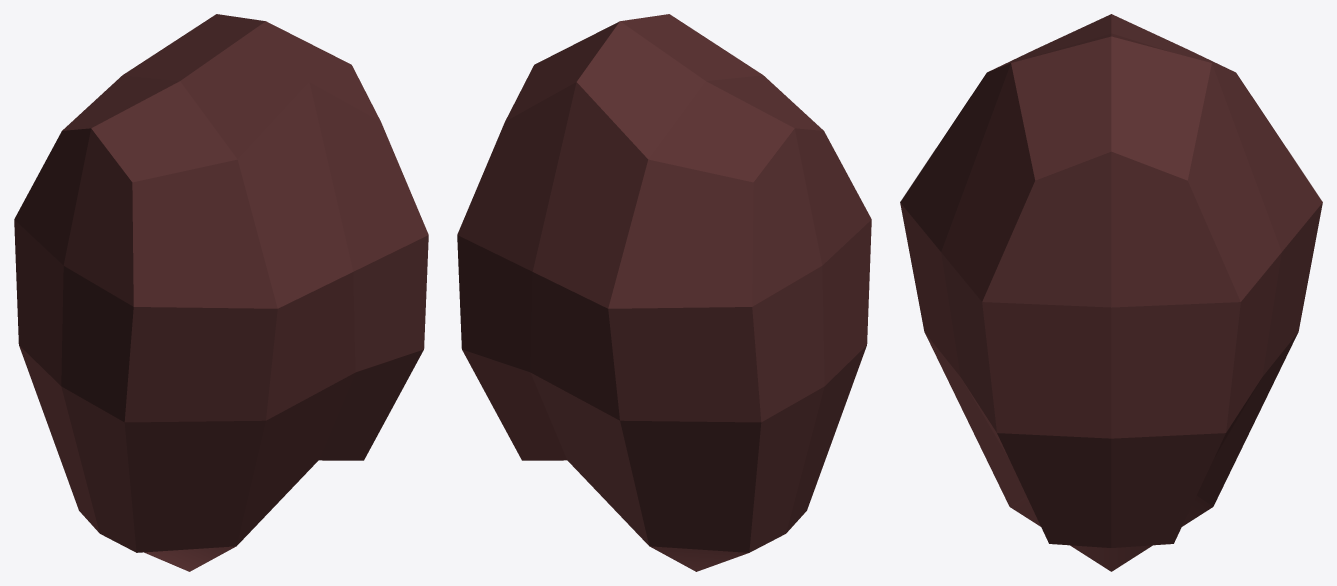
Rendered from M_Rock_Large_A.fbx.
3 renders of one model, left to right at view 1: azimuth 30°, elevation 25°; view 2: azimuth 150°, elevation 25°; view 3: azimuth 270°, elevation 25°, orthographic. The views are drawn at different scales.
Visible parts, largest first — view 1: M_Rock_Large_A; view 2: M_Rock_Large_A; view 3: M_Rock_Large_A.
Part boxes in pixels (x1=…): M_Rock_Large_A: x1=14, y1=14, x2=428, y2=571; M_Rock_Large_A: x1=457, y1=14, x2=871, y2=571; M_Rock_Large_A: x1=900, y1=14, x2=1322, y2=571.
Size of the model in its own units: 632 by 1003 by 668.
1 material, 1 textured.
